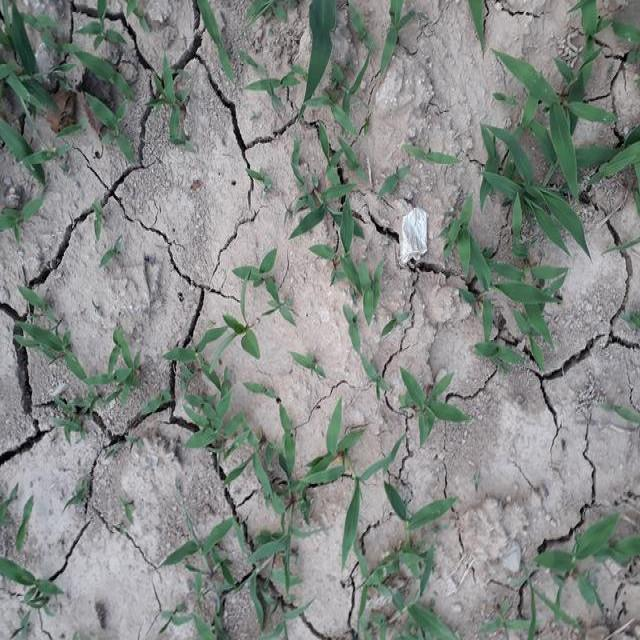weed: (165, 343, 278, 640), (498, 57, 640, 252), (15, 291, 146, 439), (302, 170, 387, 304), (462, 254, 564, 361), (304, 409, 383, 537), (397, 374, 472, 442), (386, 470, 456, 539), (146, 77, 194, 160), (238, 262, 290, 308)
